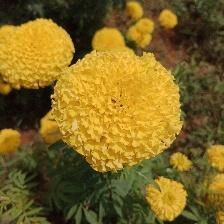marigold: (53, 51, 188, 171), (2, 19, 77, 87), (144, 177, 190, 224), (91, 27, 127, 53), (200, 173, 224, 209), (36, 111, 65, 139), (1, 126, 24, 158), (170, 152, 193, 175), (159, 8, 179, 31), (208, 144, 224, 172), (126, 1, 146, 18), (136, 32, 153, 49), (138, 18, 157, 32), (128, 26, 142, 42), (214, 210, 224, 224)
